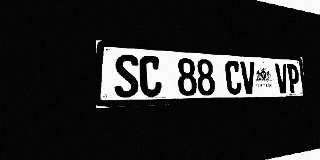8: (177, 57, 197, 96), (196, 59, 215, 95)
C: (139, 55, 162, 97), (225, 60, 242, 95)
P: (287, 64, 300, 93)
S: (114, 54, 139, 98)
V: (240, 61, 256, 94), (275, 63, 289, 93)
